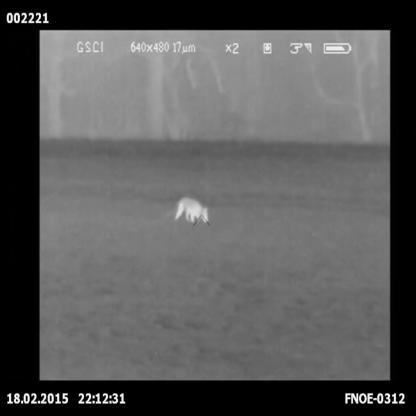rehkitze: (176, 195, 212, 228)
